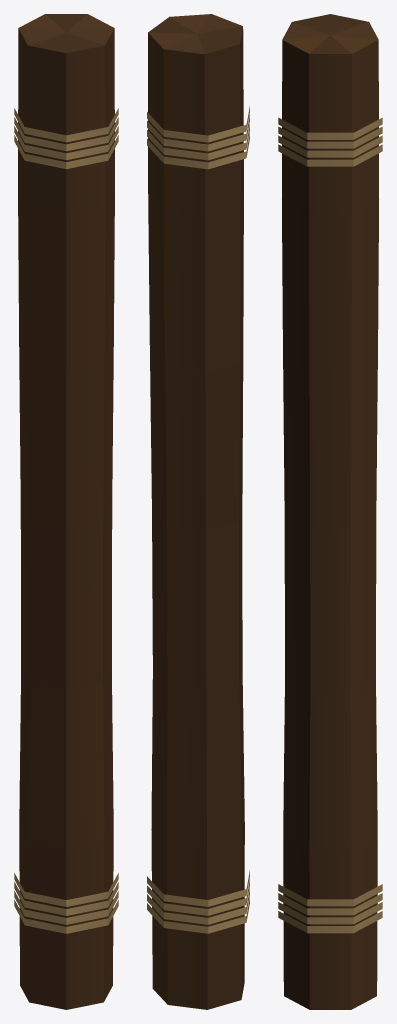
The model's file is pillar.glb.
3 renders of one model, left to right at view 1: azimuth 90°, elevation 25°; view 2: azimuth 150°, elevation 25°; view 3: azimuth 270°, elevation 25°, orthographic.
Parts seen in each view (by area): view 1: b_pillar_solid; view 2: b_pillar_solid; view 3: b_pillar_solid.
Boxes of the visible parts, left/top/right/bottom form: b_pillar_solid: left=14, top=14, right=118, bottom=1009; b_pillar_solid: left=147, top=14, right=249, bottom=1009; b_pillar_solid: left=278, top=14, right=382, bottom=1009.
Bounding box in the file's own units: 0.289 × 3 × 0.2964.
